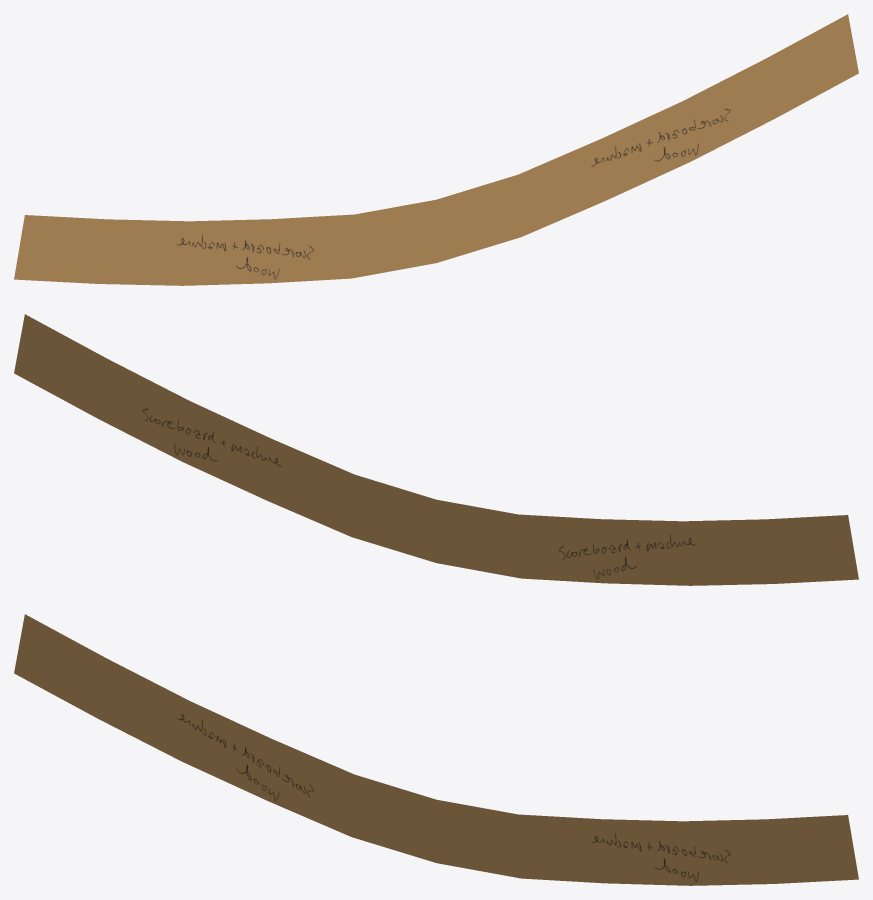
File: SM_Flag.fbx
The picture shows the model from 3 angles, top to bottom: view 1: azimuth 30°, elevation 25°; view 2: azimuth 150°, elevation 25°; view 3: azimuth 330°, elevation 25°; orthographic projection.
Visible parts, largest first — view 1: SM_Flags; view 2: SM_Flags; view 3: SM_Flags.
Part boxes in pixels (<box>): SM_Flags: <box>14,14,858,285</box>; SM_Flags: <box>14,314,858,585</box>; SM_Flags: <box>14,614,858,885</box>.
Bounding box in the file's own units: 700 × 118 × 0.
